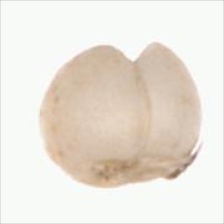L3: (97, 40, 163, 62)
L4: (40, 43, 202, 188)
